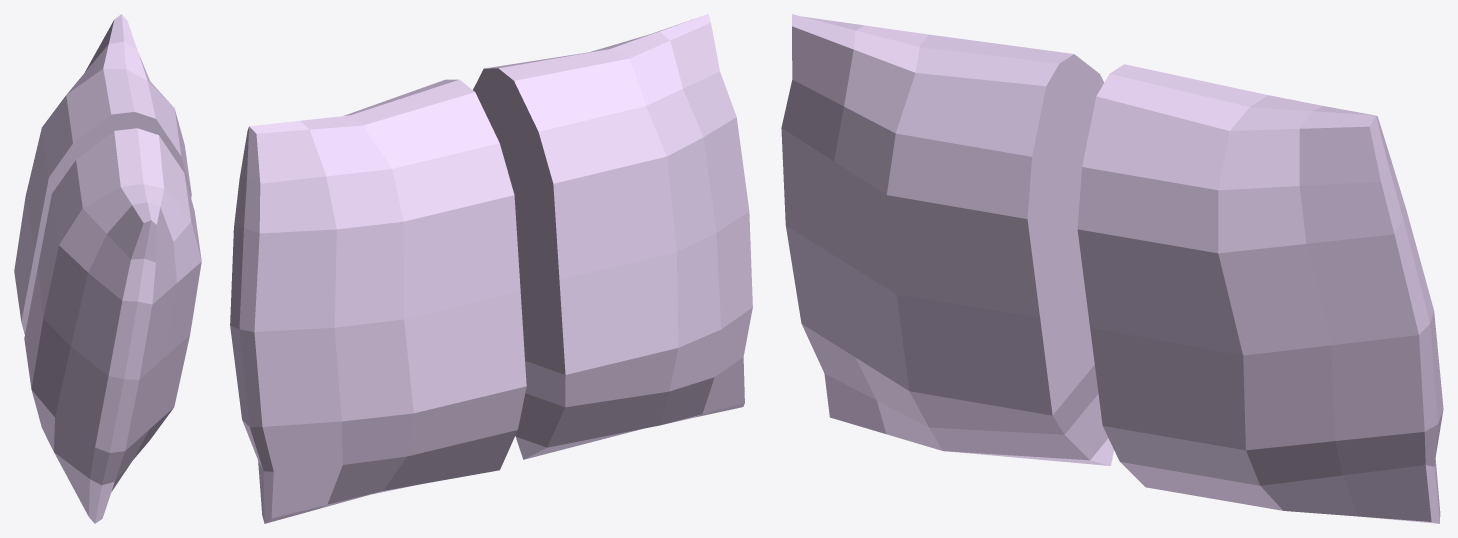
Rendered from Pillow_Right_Couch_Cut.fbx.
The picture shows the model from 3 angles, left to right: view 1: azimuth 30°, elevation 25°; view 2: azimuth 150°, elevation 25°; view 3: azimuth 270°, elevation 25°; orthographic projection. The views are drawn at different scales.
Parts seen in each view (by area): view 1: Cube.021, Cube.000; view 2: Cube.000, Cube.021; view 3: Cube.000, Cube.021.
Boxes of the visible parts, <box> form: Cube.021: <box>24,128,201,523</box>; Cube.000: <box>14,14,191,334</box>; Cube.000: <box>230,79,526,523</box>; Cube.021: <box>473,14,752,459</box>; Cube.000: <box>1077,64,1443,523</box>; Cube.021: <box>781,14,1113,465</box>.
Bounding box in the file's own units: 1478 × 1903 × 2513.
